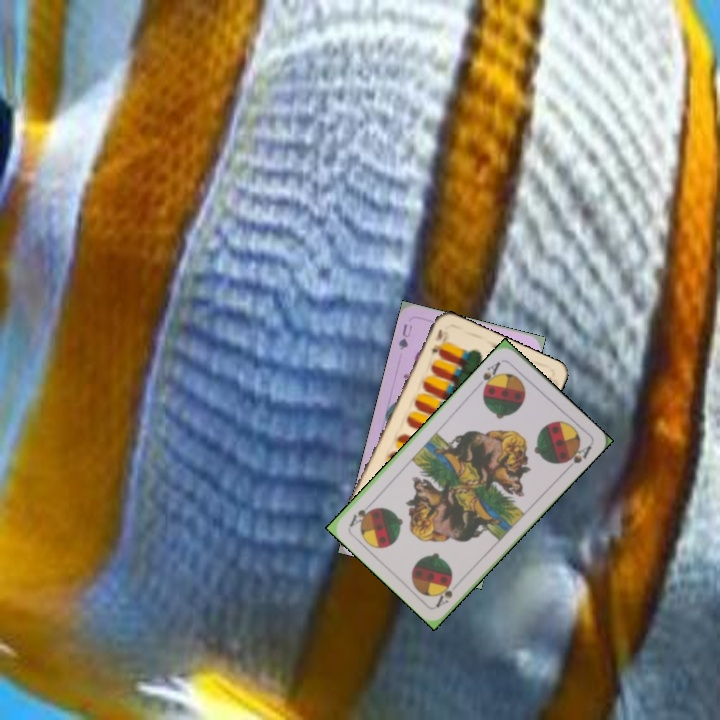E10: (427, 325, 445, 357)
GU: (394, 320, 415, 353)
SA: (479, 357, 503, 394), (431, 576, 456, 610)
